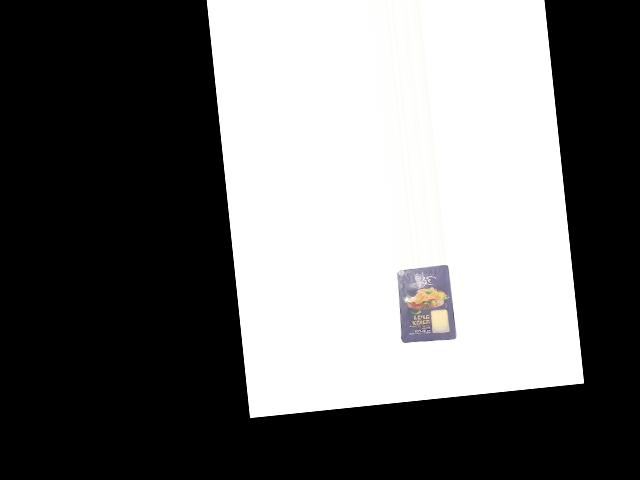cheese: (392, 263, 456, 344)
